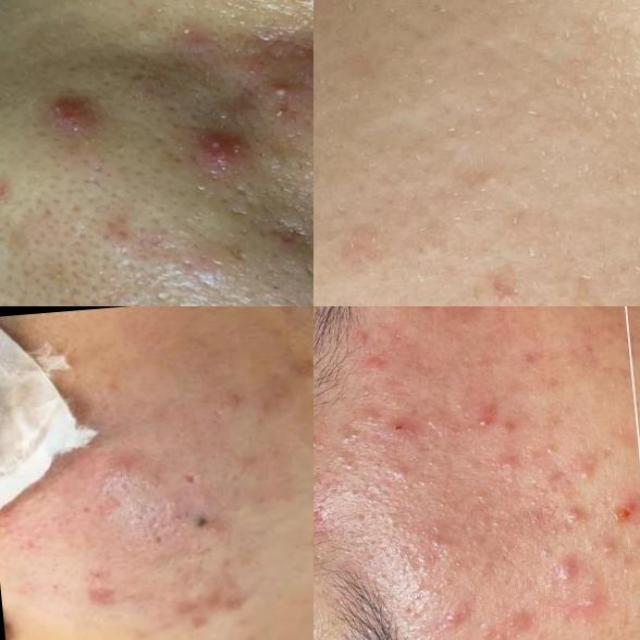8: (94, 448, 149, 490), (183, 507, 234, 545)
9: (258, 72, 303, 108)
blackheads: (150, 584, 257, 640), (184, 117, 260, 185), (37, 79, 96, 139), (79, 581, 134, 617), (300, 426, 314, 465)
